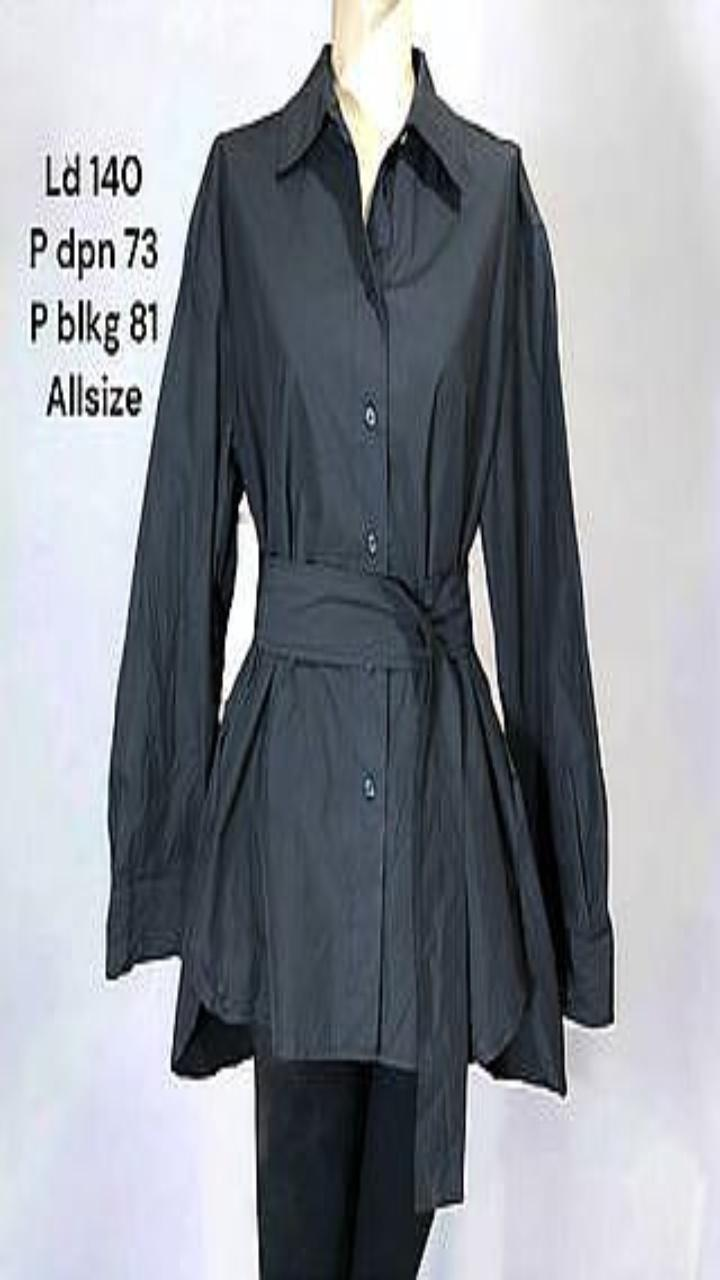Coat: (106, 43, 613, 1209)
Jeans: (254, 1053, 433, 1279)
